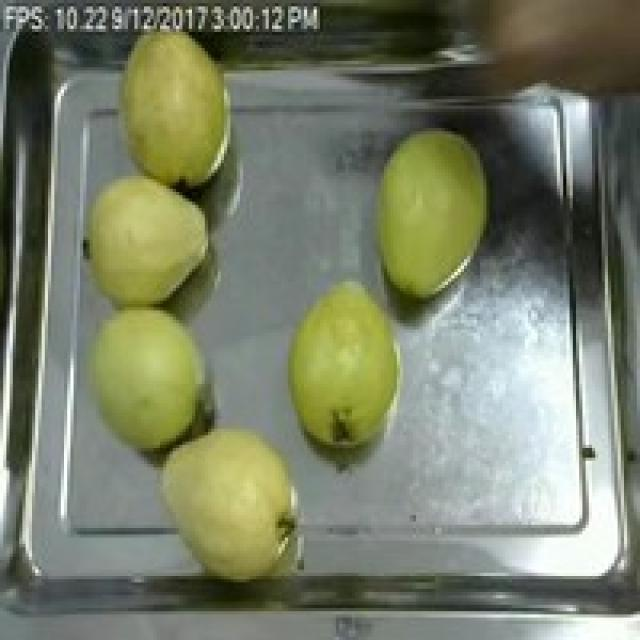Fruit: (147, 410, 317, 588), (275, 268, 416, 458), (64, 294, 221, 461), (362, 118, 502, 304), (109, 10, 240, 195), (76, 163, 218, 317)
